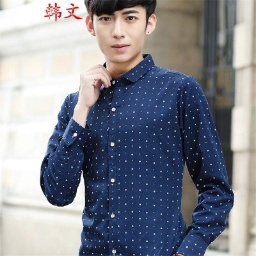face: (79, 1, 159, 63)
